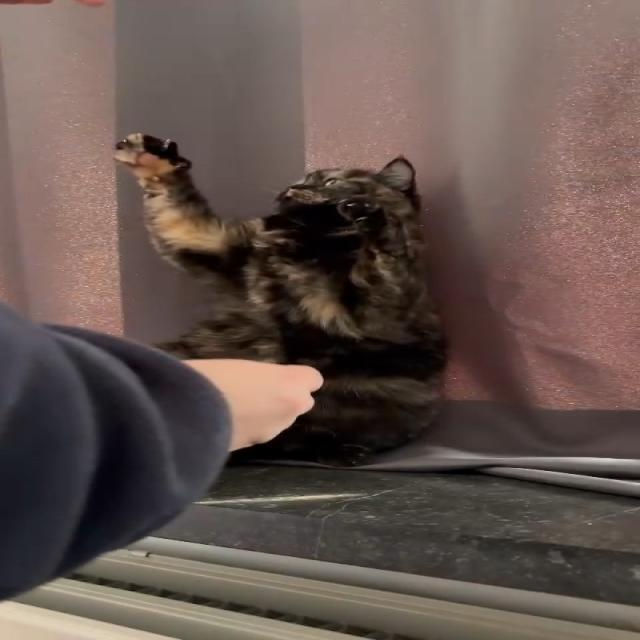authorized: (112, 131, 451, 468)
